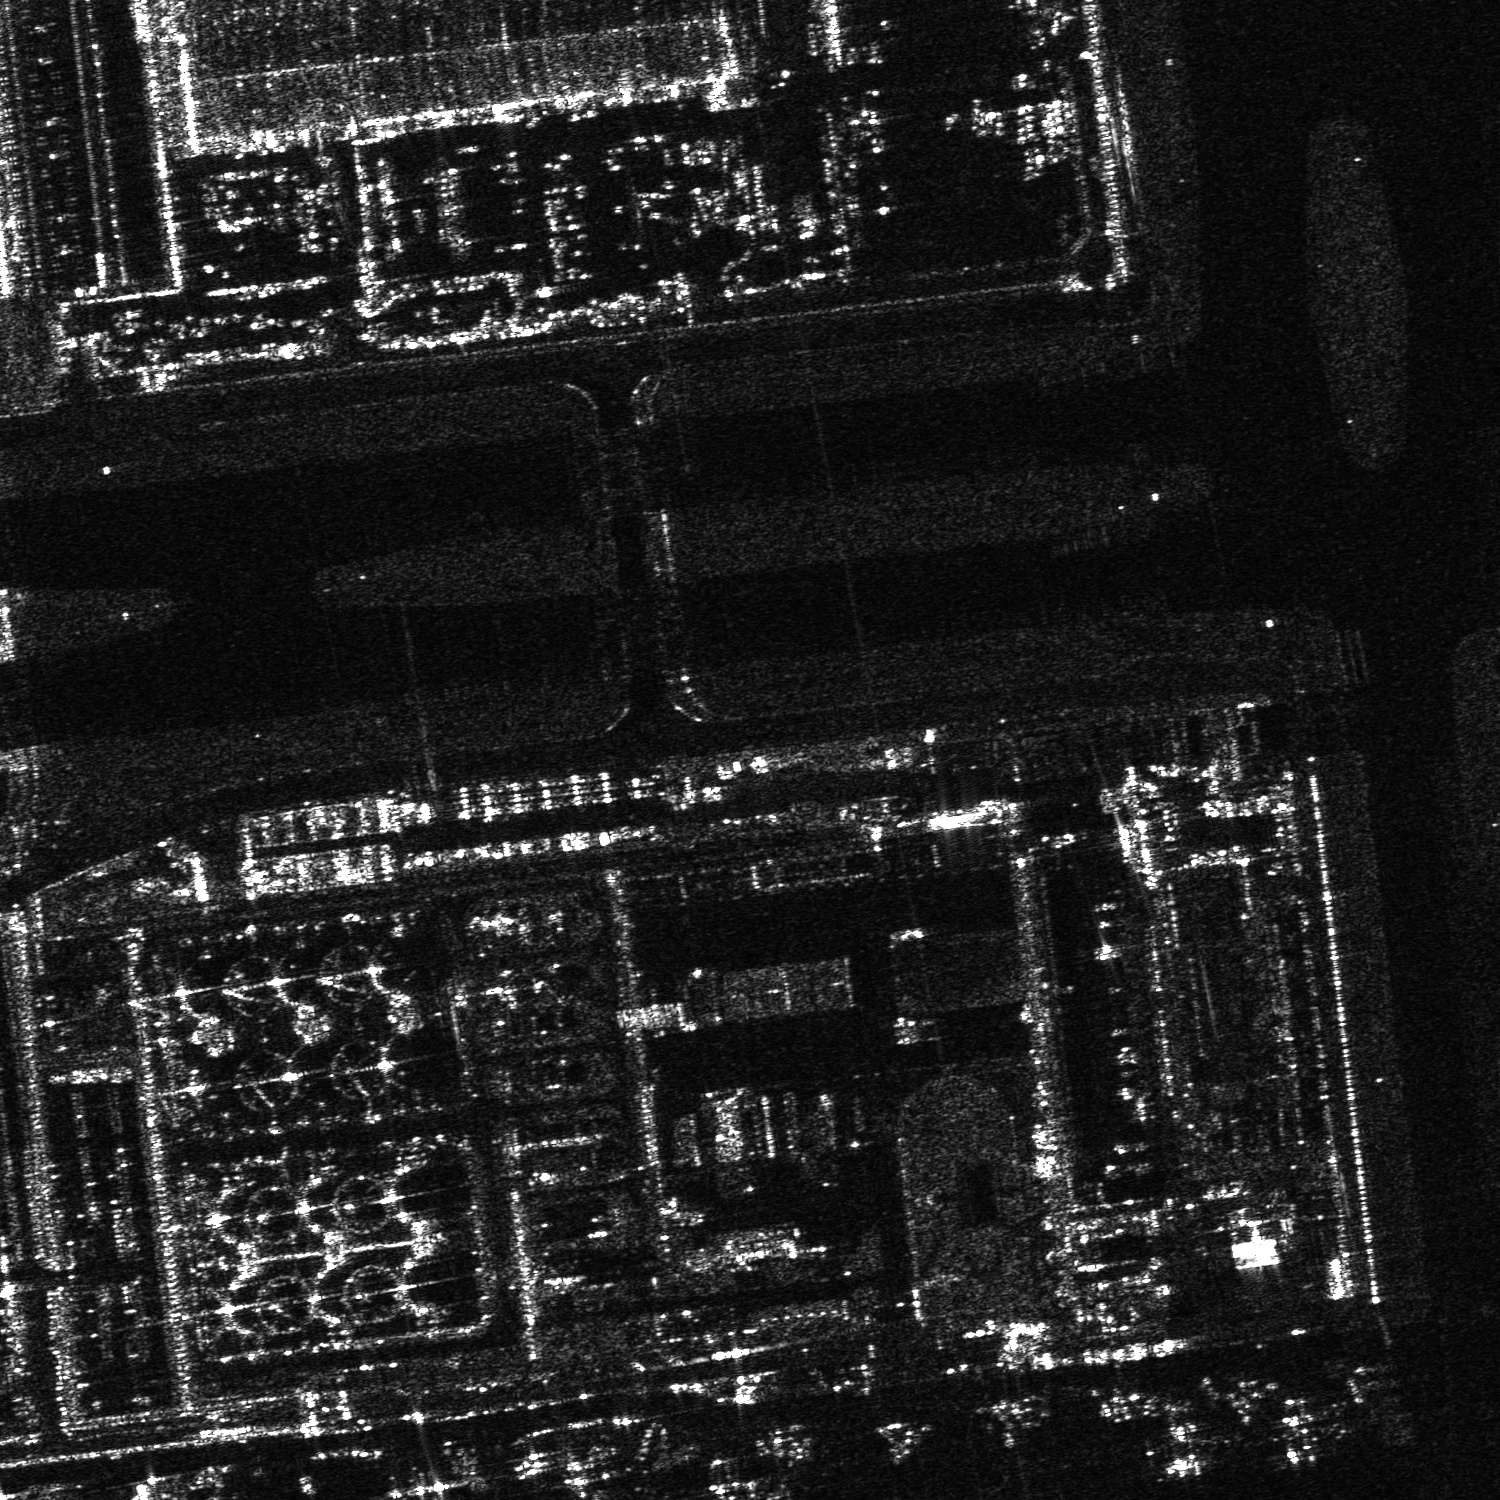Boeing737: (1143, 1413, 1220, 1482)
other: (1269, 1393, 1335, 1462)
